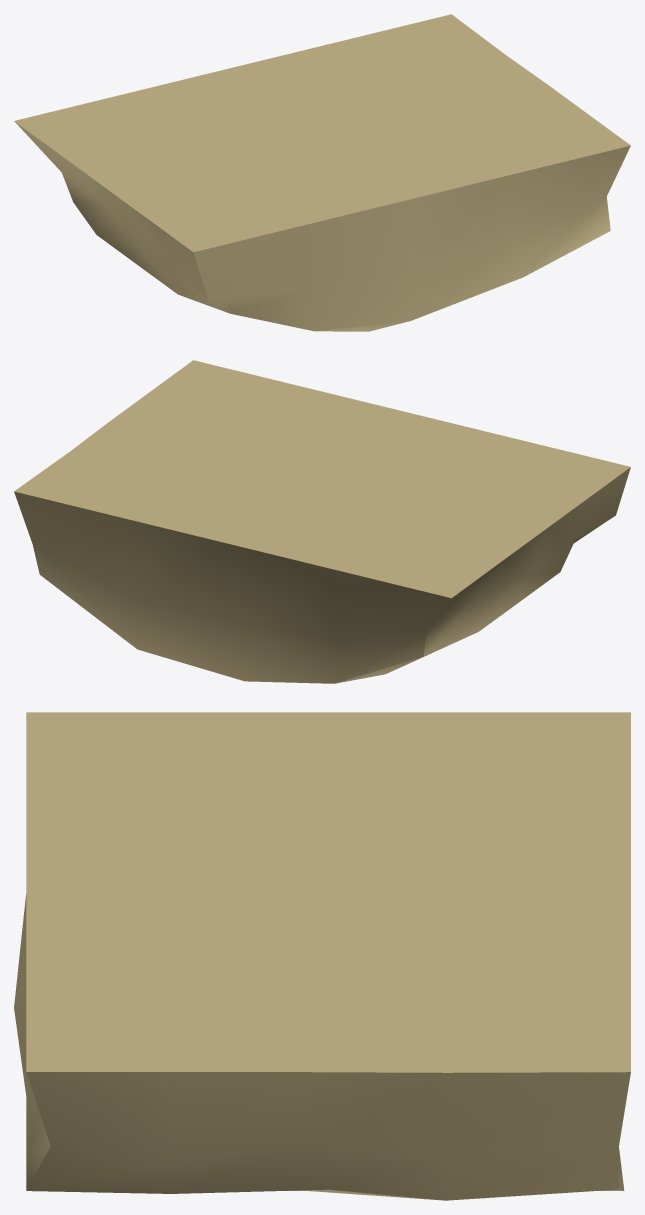
The model's file is platform.dae.
3 renders of one model, top to bottom at view 1: azimuth 30°, elevation 25°; view 2: azimuth 150°, elevation 25°; view 3: azimuth 270°, elevation 25°, orthographic. The views are drawn at different scales.
Visible parts, largest first — view 1: pCube1; view 2: pCube1; view 3: pCube1.
Part boxes in pixels (x1,y1,x2,y2): pCube1: (14, 14, 630, 331); pCube1: (14, 360, 630, 683); pCube1: (14, 712, 630, 1200).
Bounding box in the file's own units: 4.02 × 1.44 × 2.91.
